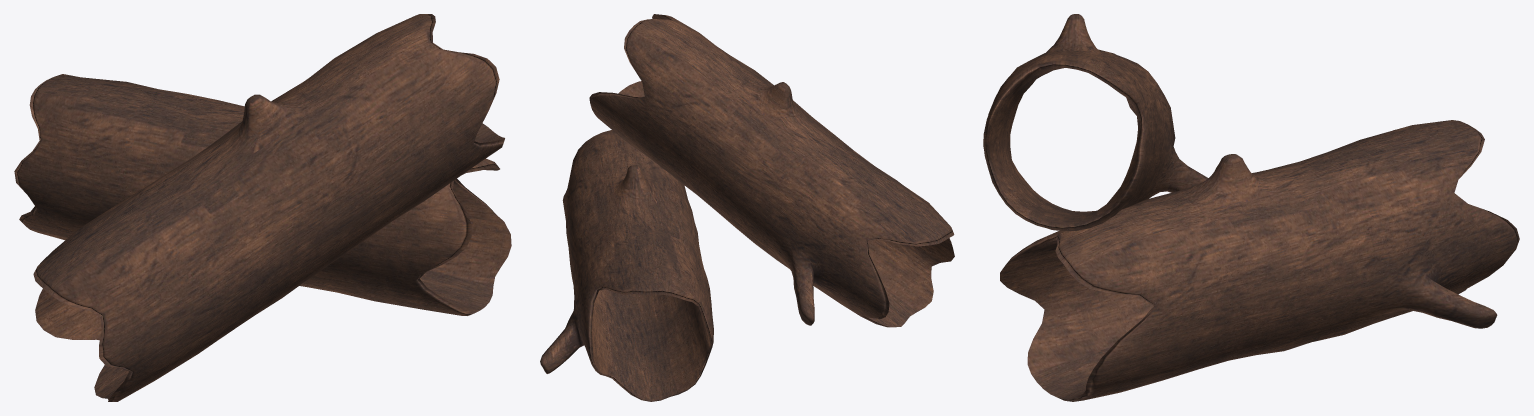
File: troncos2.obj
The picture shows the model from 3 angles, left to right: view 1: azimuth 30°, elevation 25°; view 2: azimuth 150°, elevation 25°; view 3: azimuth 270°, elevation 25°; orthographic projection. The views are drawn at different scales.
Parts seen in each view (by area): view 1: Tronco_UVs:pCylinder2; view 2: Tronco_UVs:pCylinder2; view 3: Tronco_UVs:pCylinder2.
Part boxes in pixels (x1,y1,x2,y2): Tronco_UVs:pCylinder2: (14, 14, 511, 401); Tronco_UVs:pCylinder2: (540, 14, 954, 401); Tronco_UVs:pCylinder2: (983, 14, 1519, 401).
Size of the model in its own units: 1.84 by 1.13 by 1.71.
2 materials, 2 textured.
